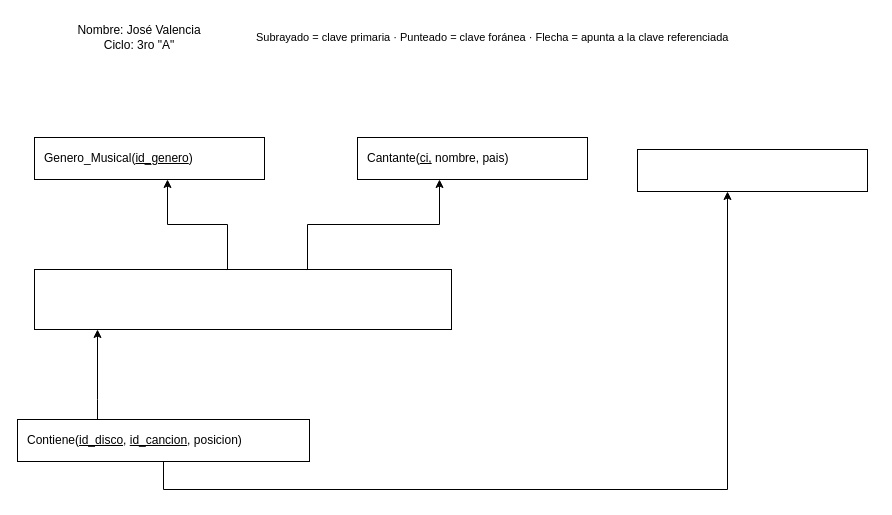
The diagram is 892 pixels wide and 515 high, and some of its shapes have lost their labels. Each missing label, with the box of its shape:
Cancion( id_cancion , titulo): (636, 148, 868, 192)
Disco( id_disco , titulo, precio, id_genero , nombre_cantante ): (34, 268, 452, 330)
